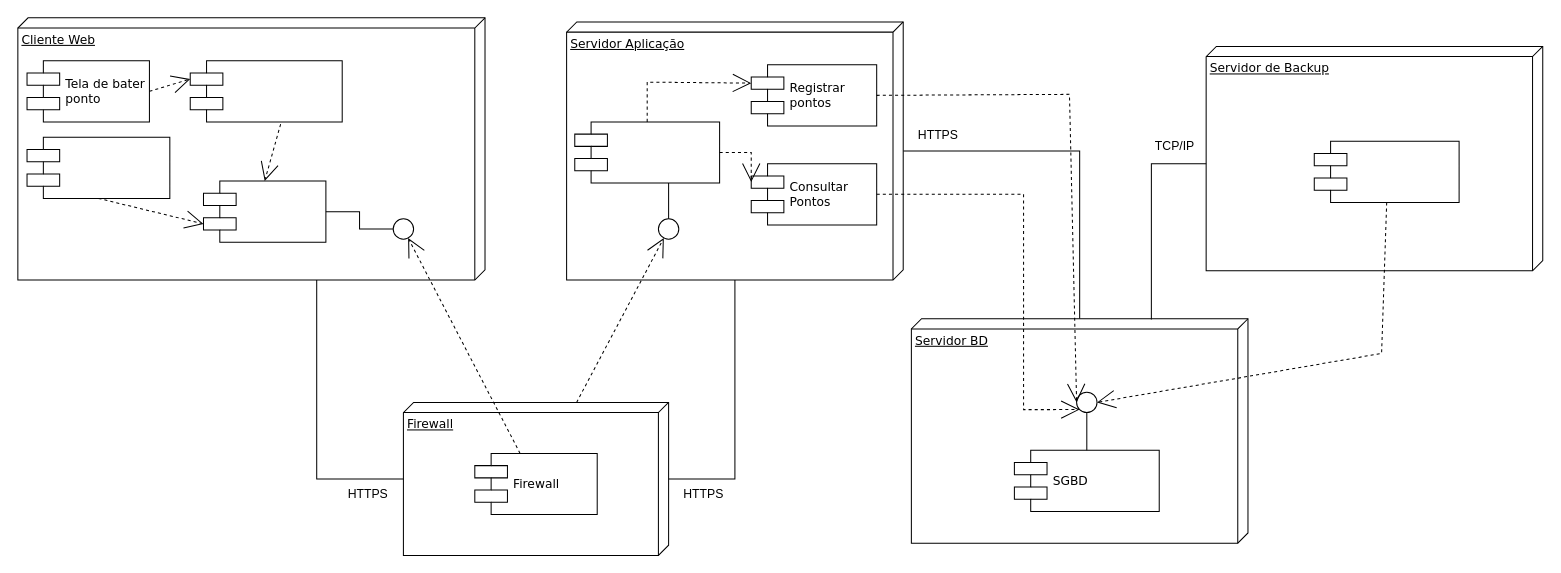
Some shapes in this 1561 by 573 pixel diagram are drawn without their labels. The centre of each missing label's shape, as x and y in pixels:
Criptografia: (x=264, y=211)
Descriptografa: (x=647, y=152)
Espelhar Dados: (x=1386, y=171)
Registrar ponto localmente: (x=265, y=91)
Tela de histórico de ponto: (x=98, y=167)
